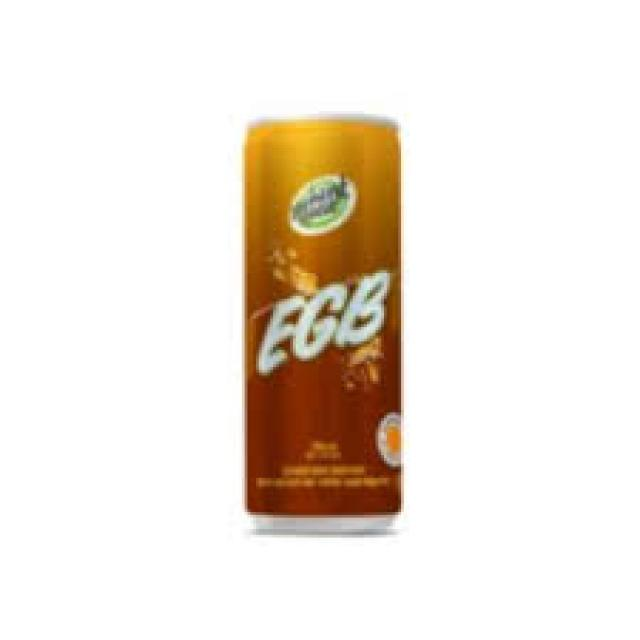Cans: (227, 100, 424, 546)
